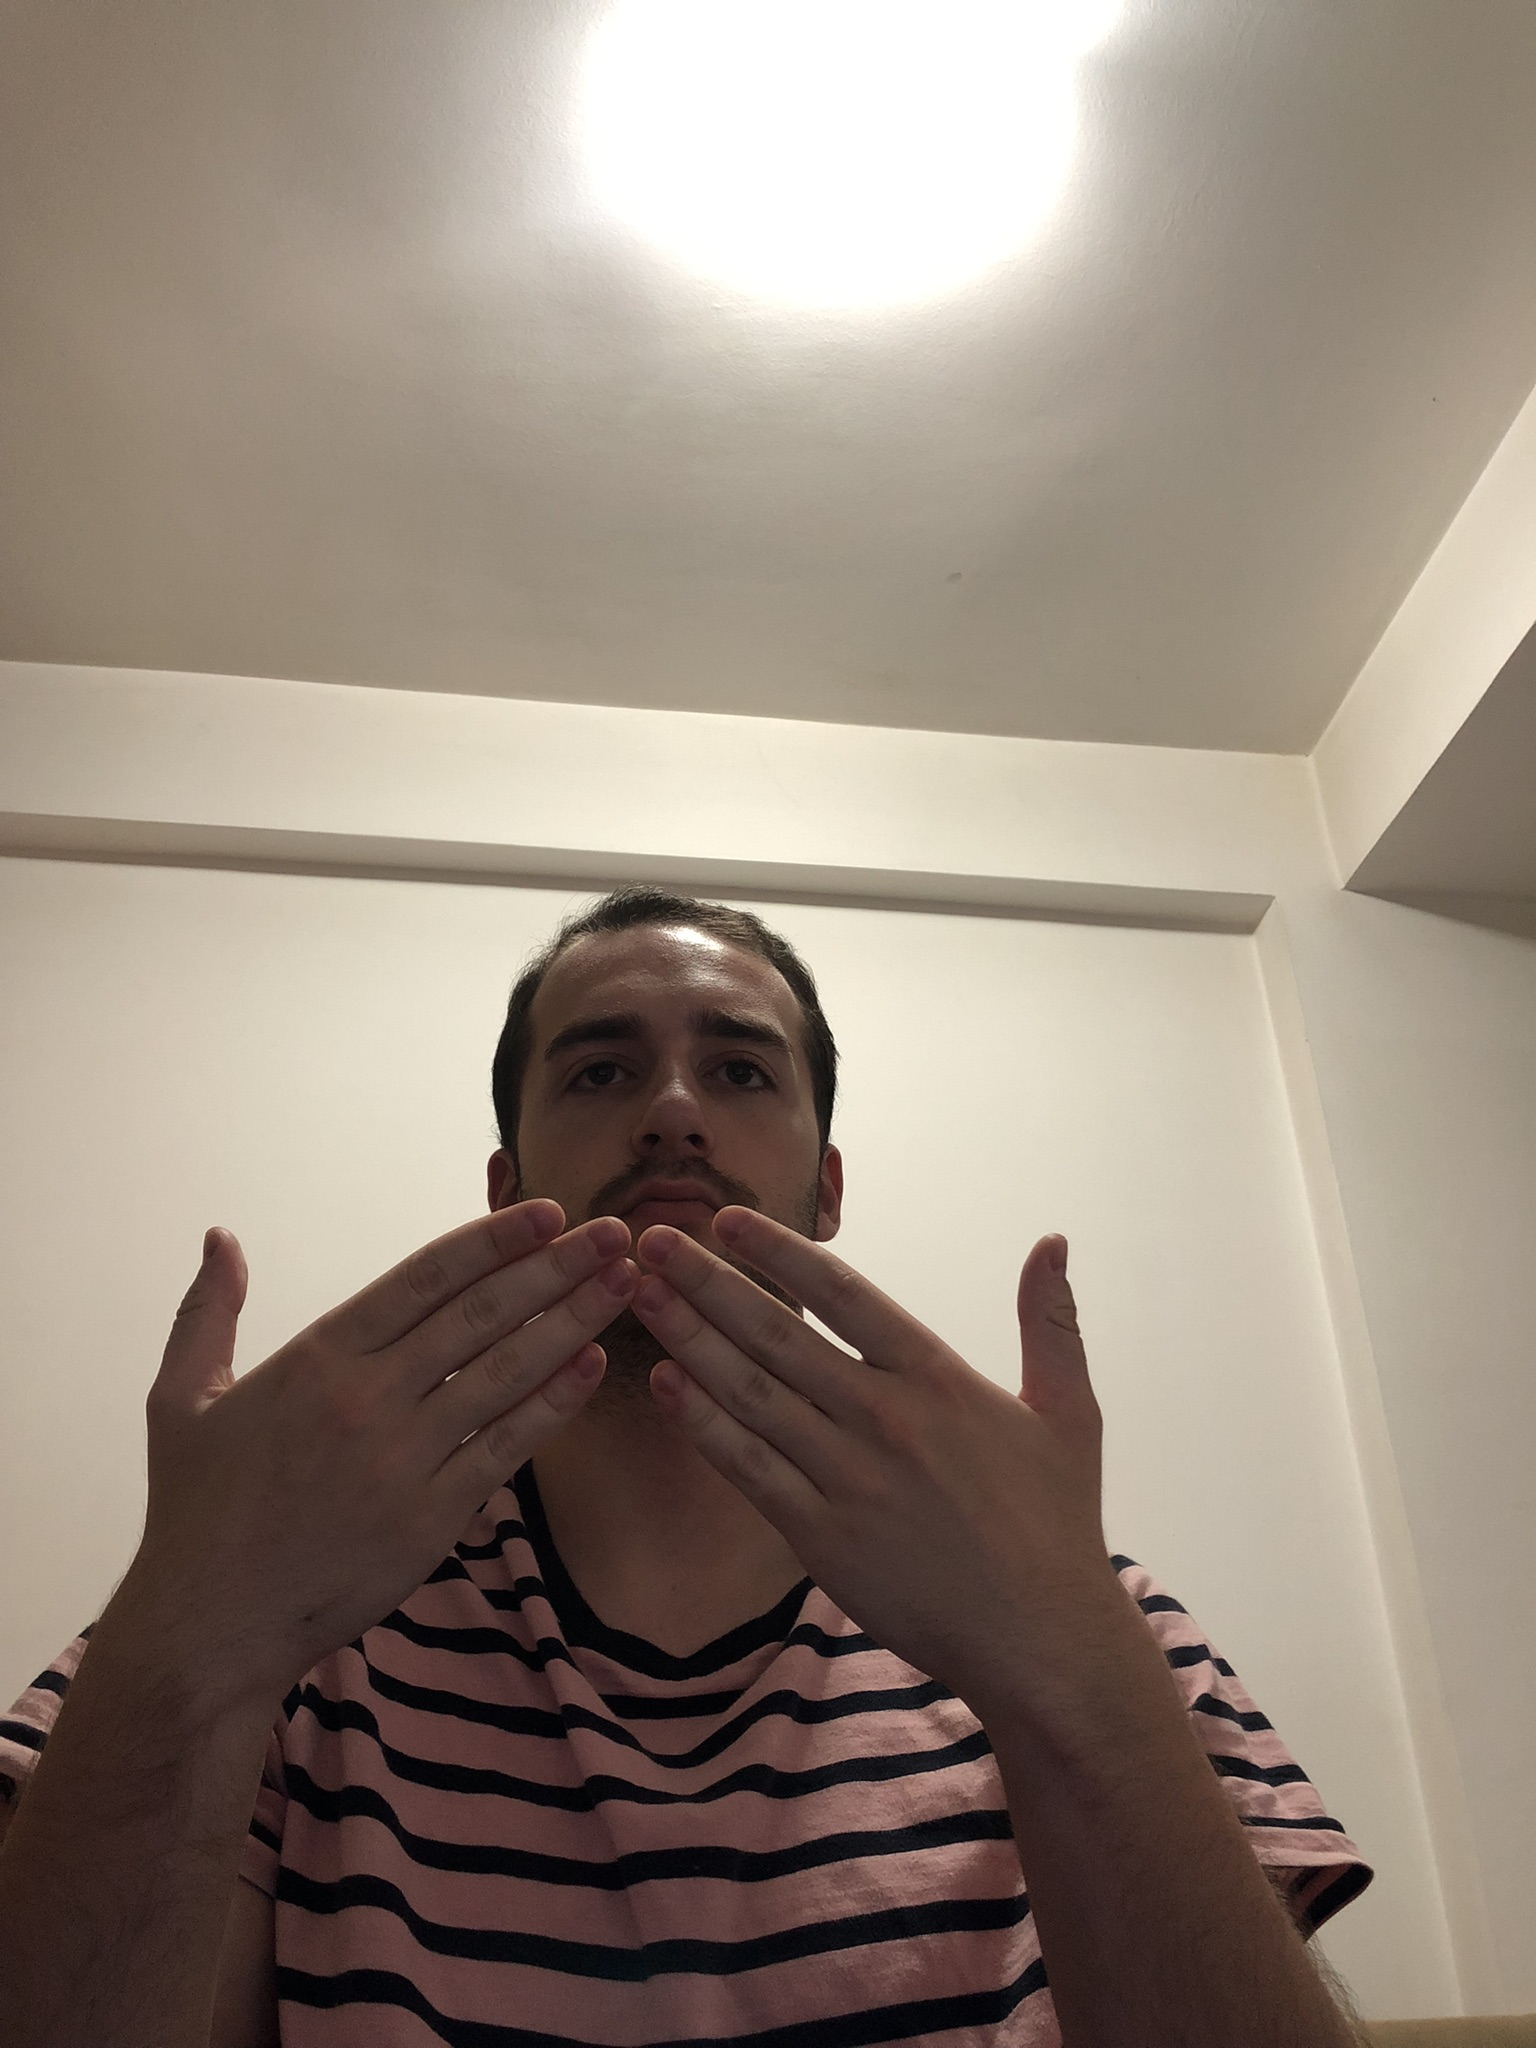Thank You: (139, 1188, 1107, 1748)
